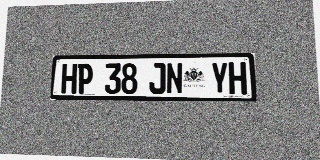3: (105, 63, 121, 94)
8: (121, 63, 138, 94)
H: (228, 62, 247, 94), (61, 64, 77, 94)
J: (149, 63, 165, 94)
N: (166, 63, 183, 94)
P: (77, 63, 93, 94)
Y: (210, 62, 228, 94)
